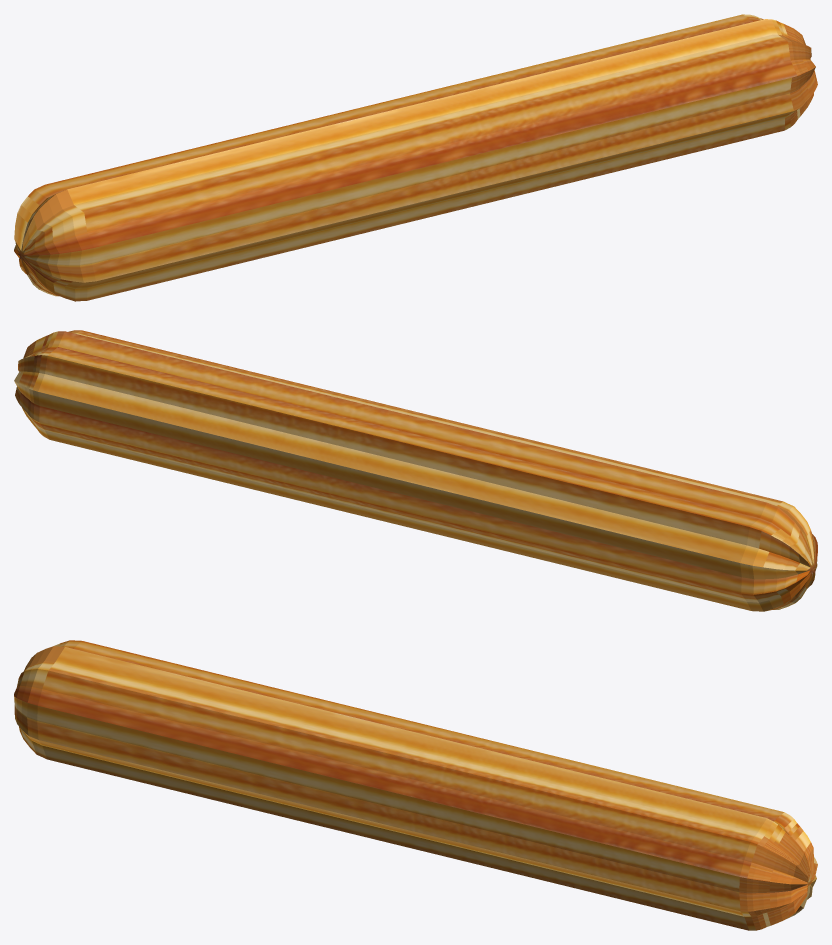
File: churro.glb
The picture shows the model from 3 angles, top to bottom: view 1: azimuth 30°, elevation 25°; view 2: azimuth 150°, elevation 25°; view 3: azimuth 330°, elevation 25°; orthographic projection.
Parts seen in each view (by area): view 1: Cylinder; view 2: Cylinder; view 3: Cylinder.
Boxes of the visible parts, box(x1,y1,x2,y2) form: Cylinder: box(14, 14, 817, 301); Cylinder: box(14, 330, 817, 611); Cylinder: box(14, 640, 817, 930).
Bounding box in the file's own units: 17.31 × 2.22 × 2.1.
1 material, 1 textured.
